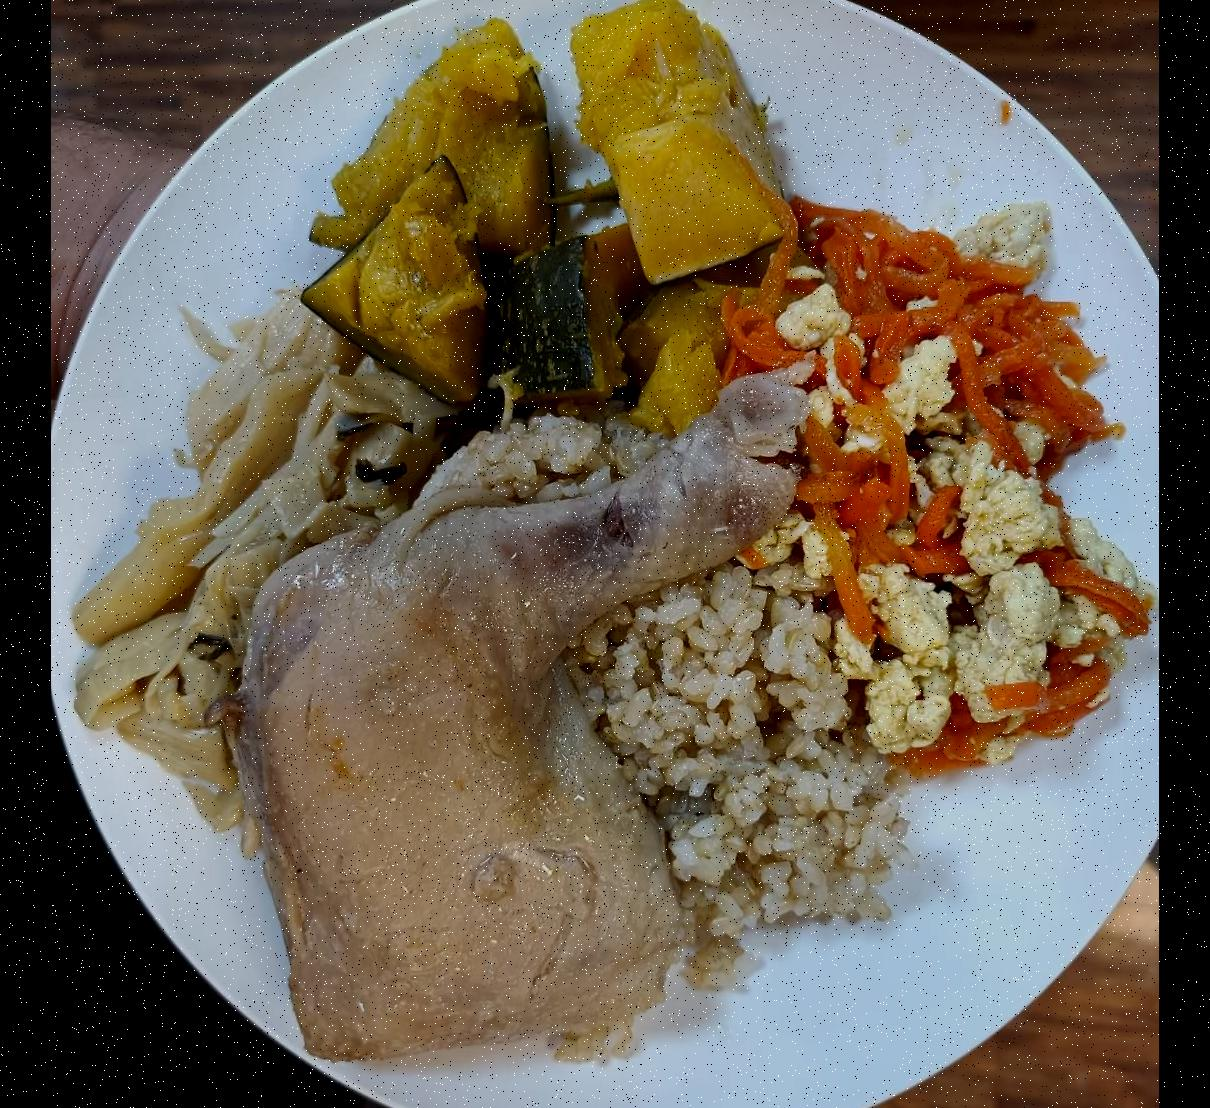big herbal chicken leg: (284, 415, 791, 1051)
brown rice: (387, 424, 876, 949)
plate: (71, 0, 1155, 1108)
side dish: (744, 201, 1121, 743), (324, 48, 781, 405), (92, 317, 399, 761)
